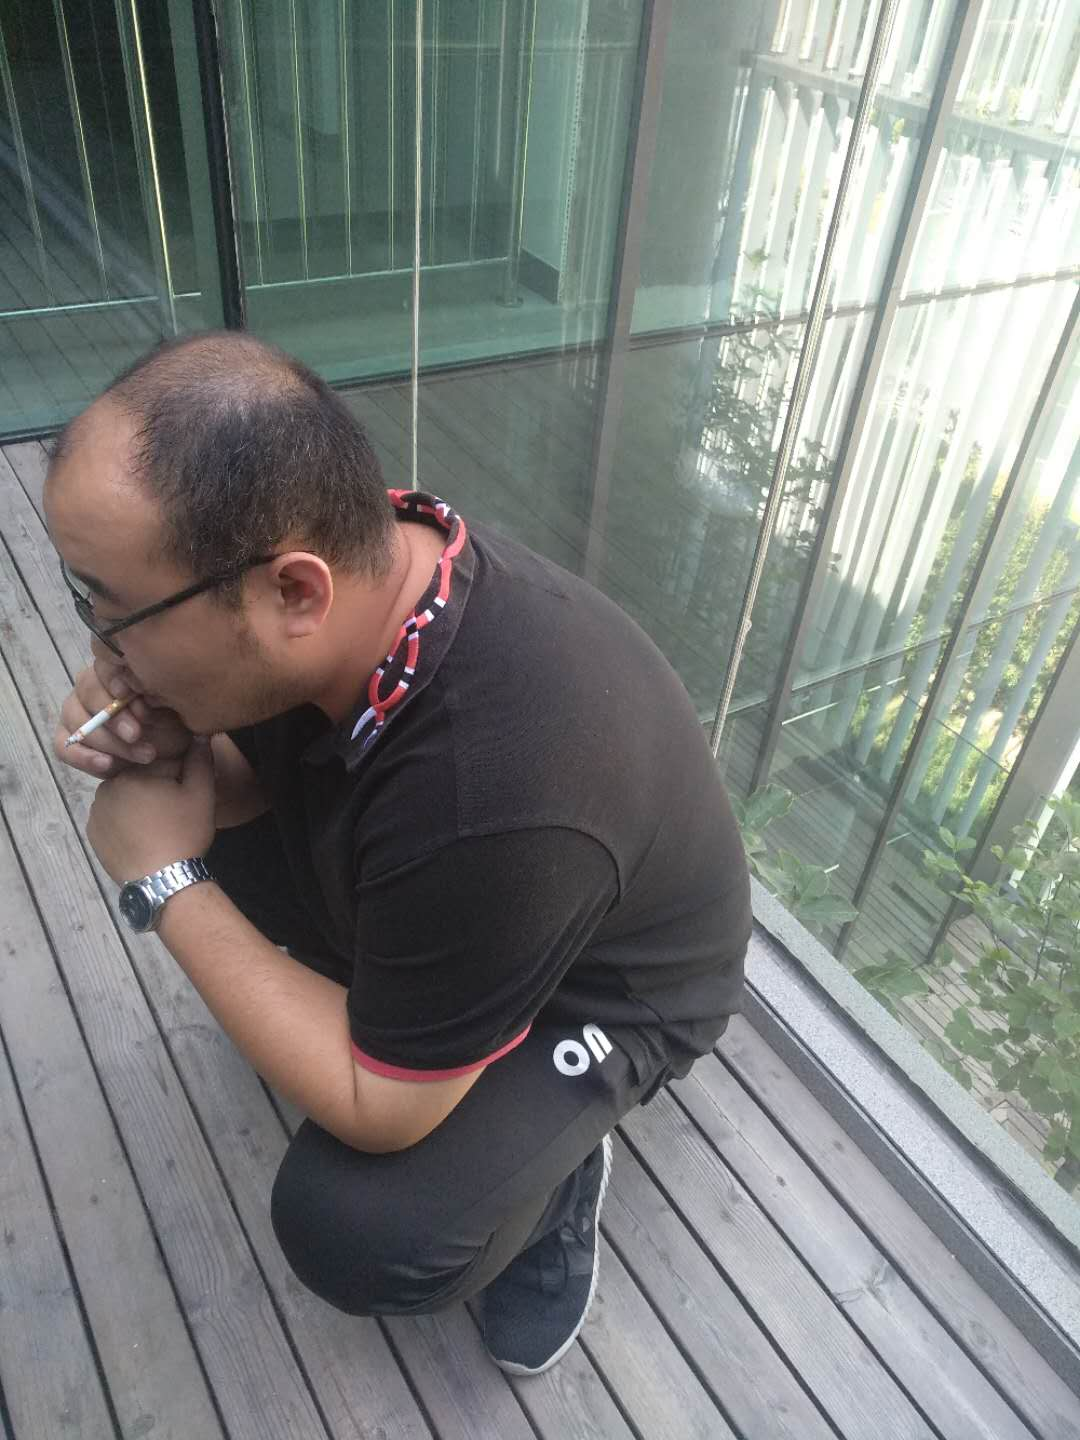smoke: (62, 708, 129, 752)
